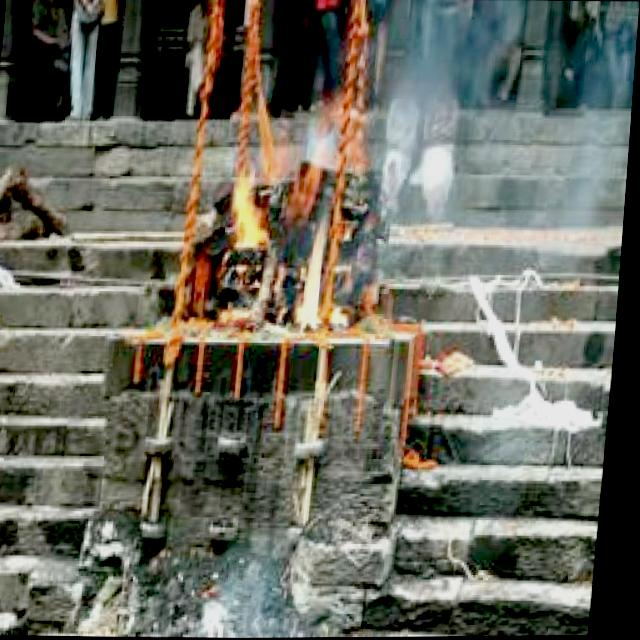Fire: (221, 96, 351, 332)
